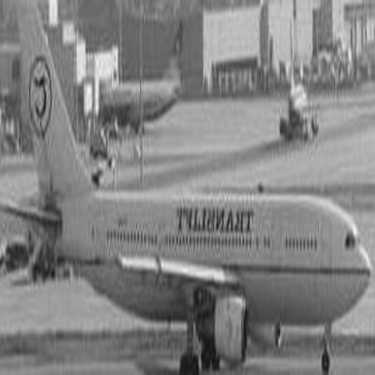airplane: (7, 5, 373, 372), (1, 10, 193, 144), (254, 49, 324, 150)
